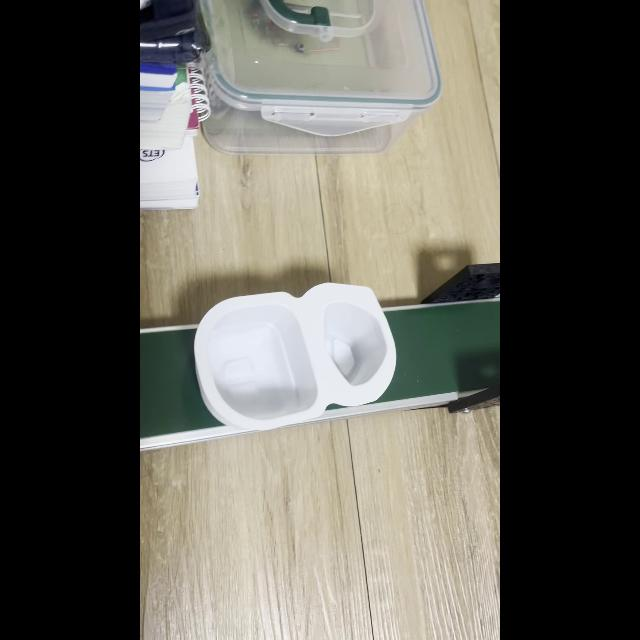clean: (193, 284, 395, 428)
